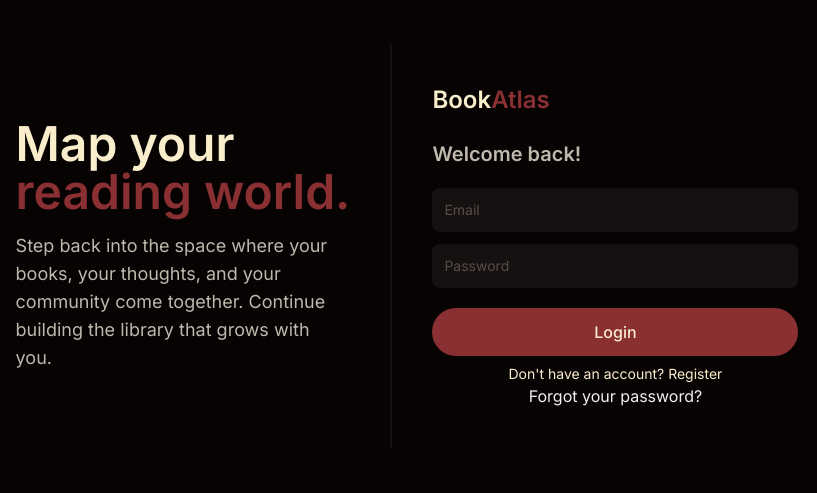
Test: LoginPage › shows backend error when login fails
Type "testuser1@example.com" into the field with placeholder "Email" at (615, 210), box [432,188,798,232]
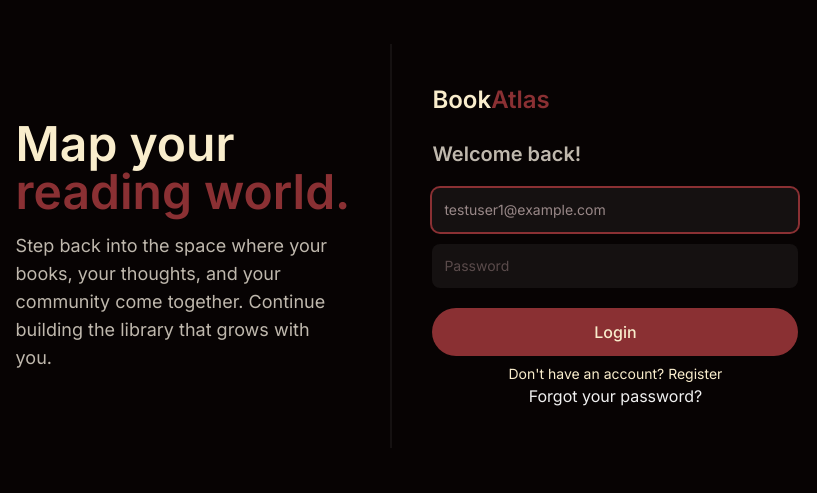
Type "WrongPassword123!" into the password field with placeholder "Password" at (615, 266), box [432,244,798,288]
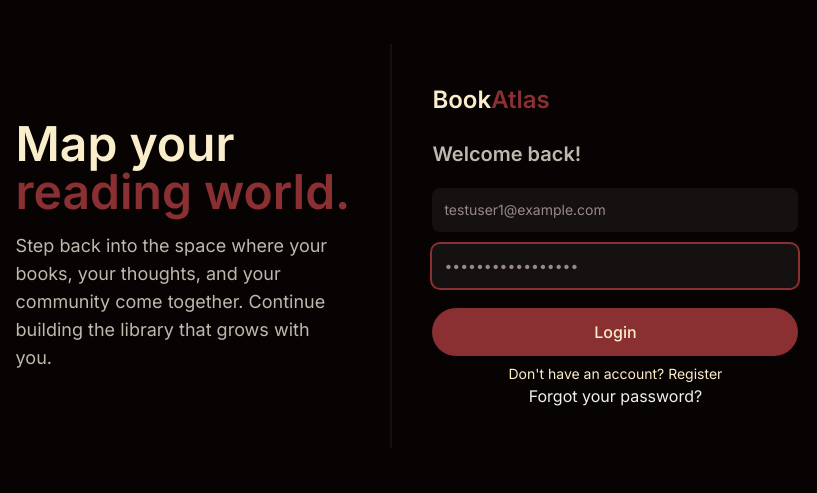
Click the button "Login" at (615, 332), box [432,308,798,356]
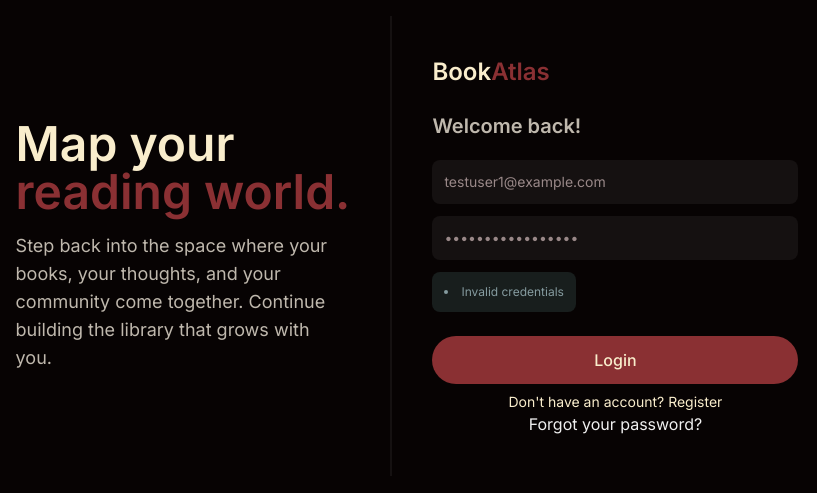
Expected: the list item "Invalid credentials" is shown, [444,284,564,300]
